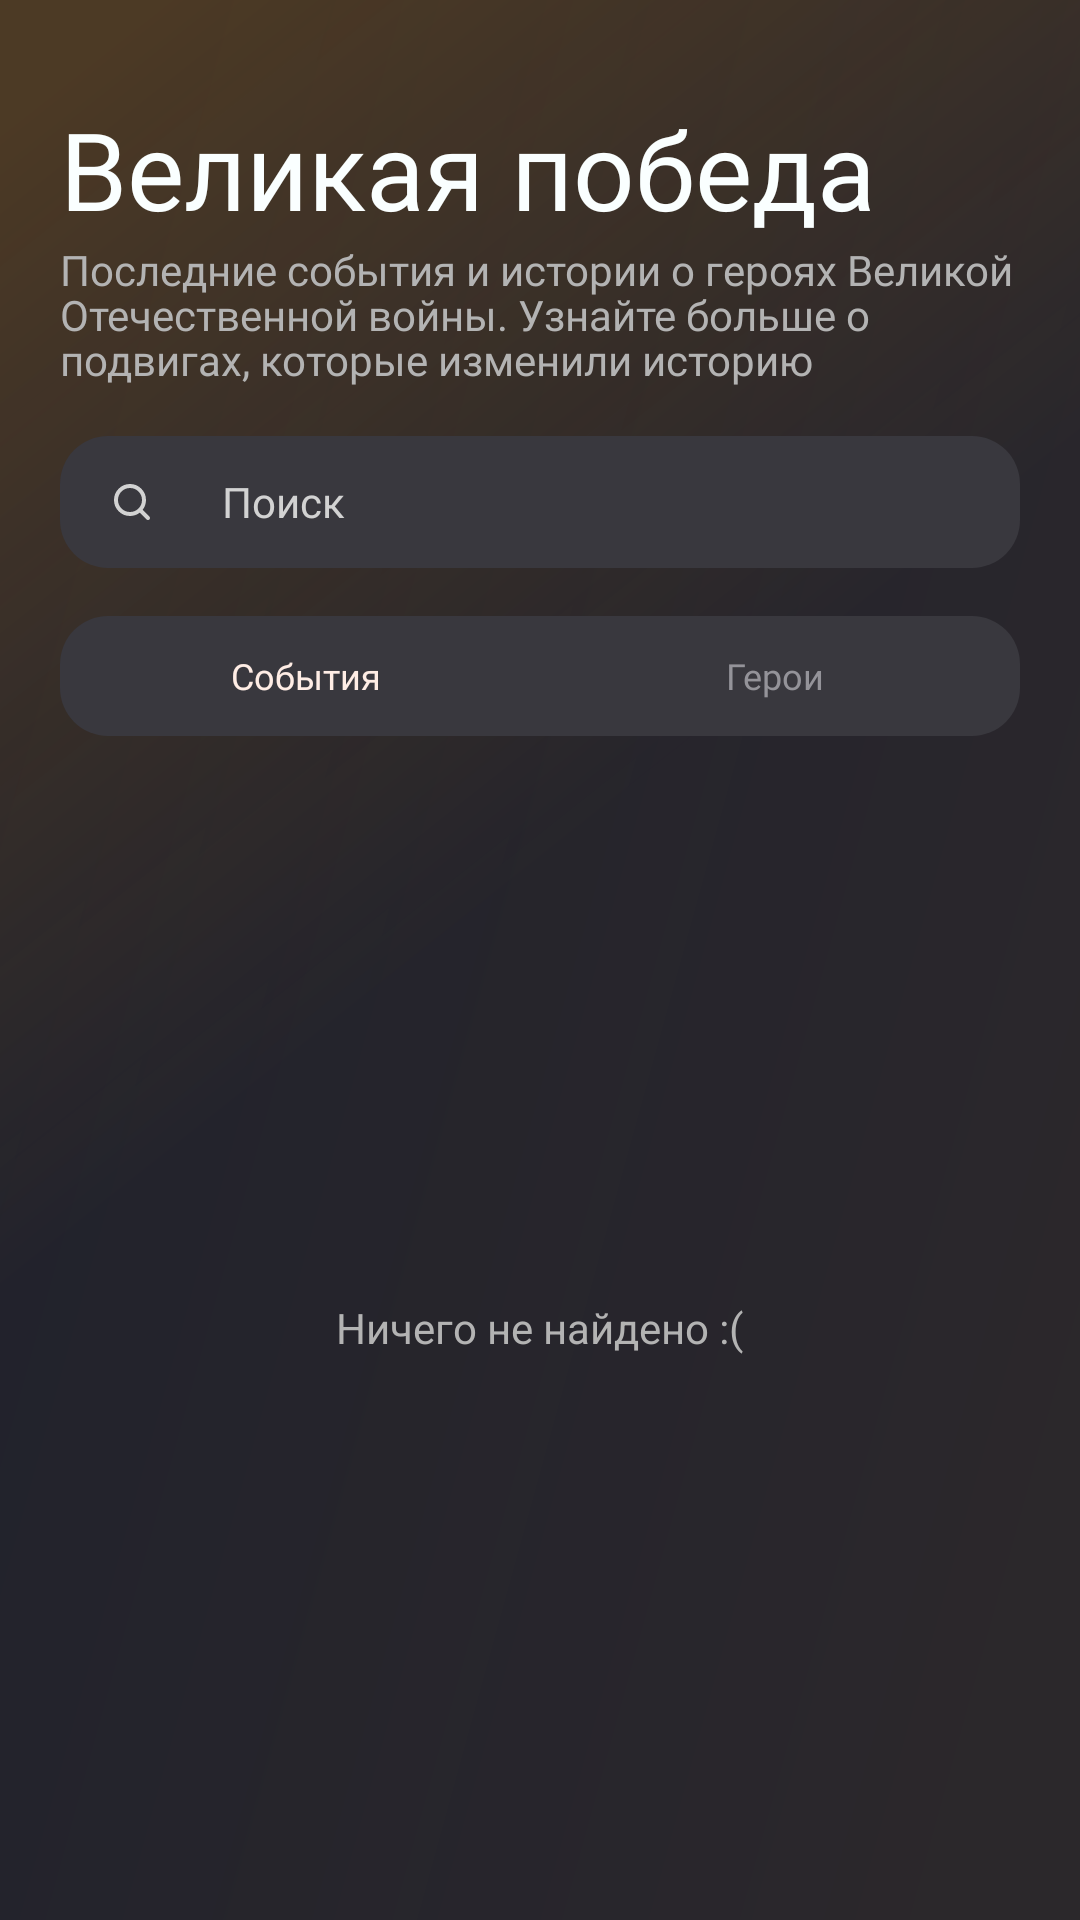

Icons on this 1080 × 1920 Android screen, each with its box as (x1, y1, x2, y2):
search: (114, 484, 150, 520)
